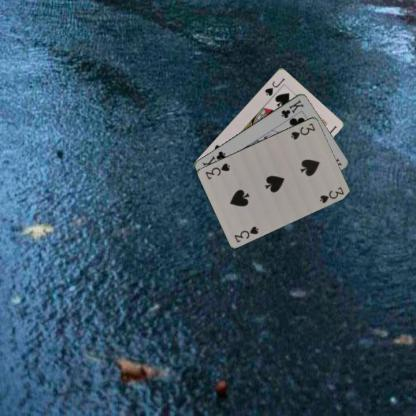3s: (288, 120, 317, 141), (232, 223, 260, 244)
Js: (262, 75, 286, 97)
Kc: (279, 97, 305, 119)
